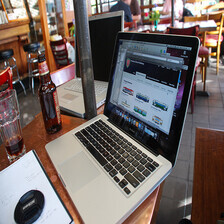laptop: (33, 25, 205, 219)
